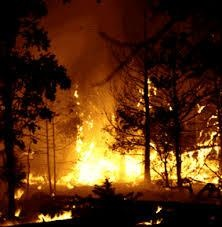fire: (136, 76, 160, 108)
